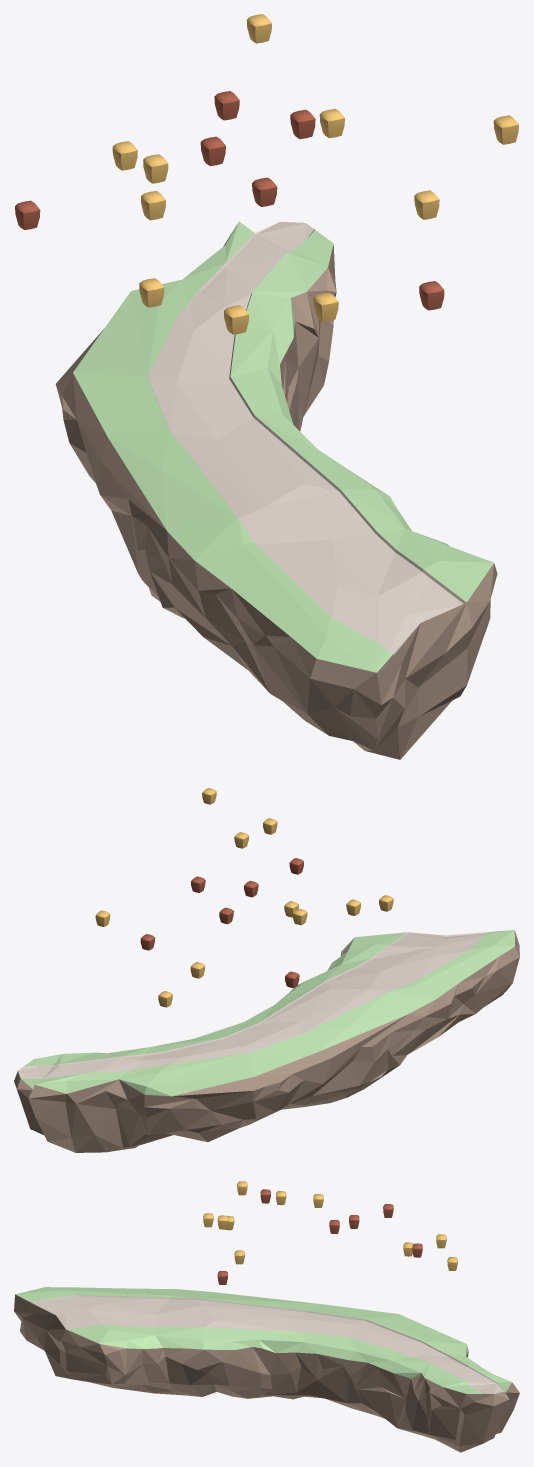
The model's file is Cliff_Track.fbx.
3 views of the same model, one above another, from view 1: azimuth 30°, elevation 25°; view 2: azimuth 150°, elevation 25°; view 3: azimuth 270°, elevation 25° (orthographic). The views are drawn at different scales.
Parts seen in each view (by area): view 1: Cliff_002:Cliff; view 2: Cliff_002:Cliff; view 3: Cliff_002:Cliff.
Part boxes in pixels (box(x1,y1,x2,y2)): Cliff_002:Cliff: box(55, 221, 497, 759); Cliff_002:Cliff: box(14, 930, 519, 1152); Cliff_002:Cliff: box(14, 1287, 519, 1452).
Size of the model in its own units: 57.76 by 57.29 by 112.
